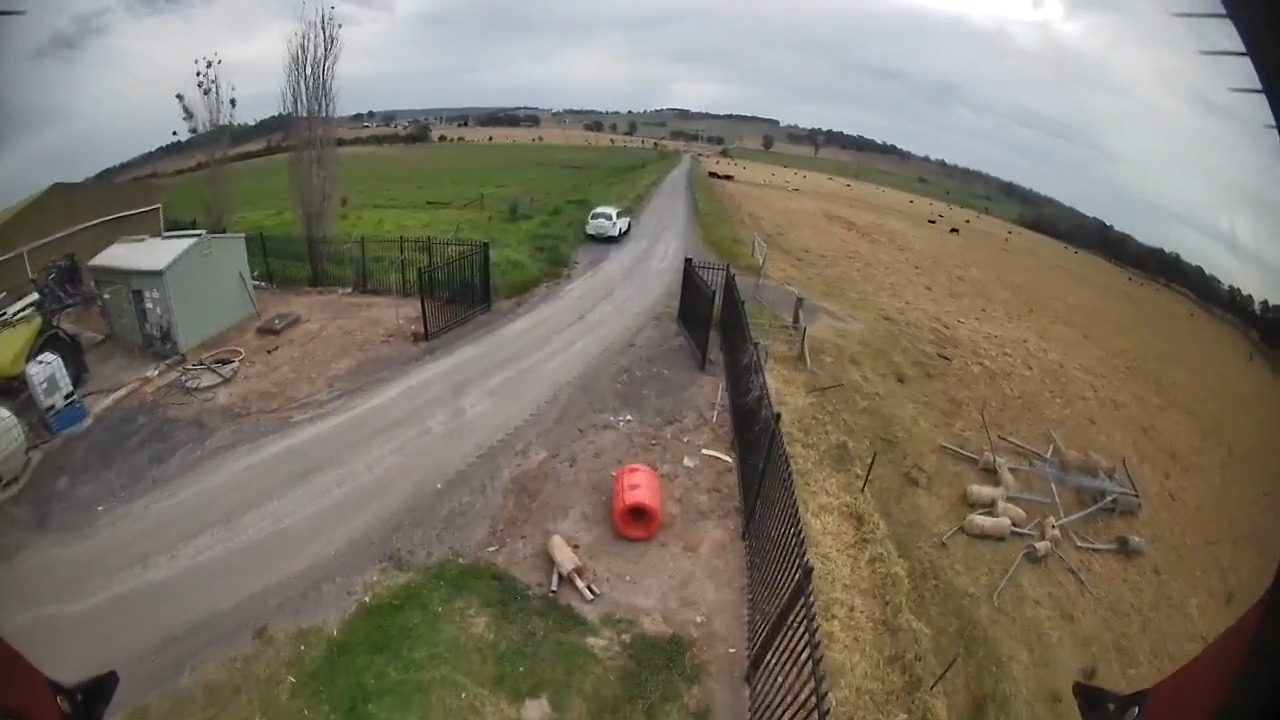Car: (584, 206, 630, 238)
